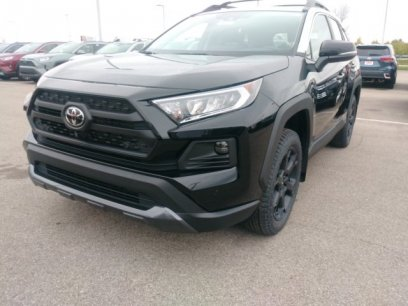Toyota RAV-4: (21, 4, 363, 238)
